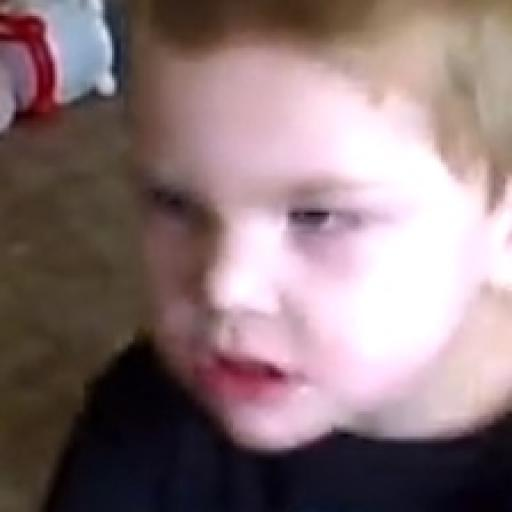Autism: (110, 0, 512, 467)
